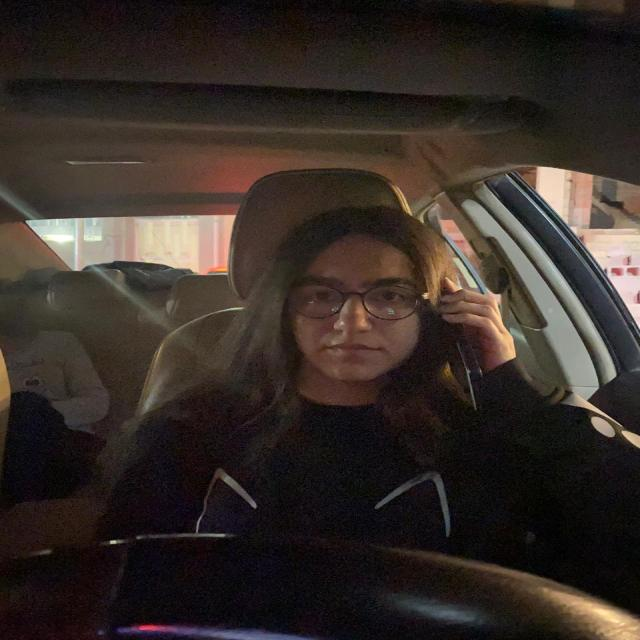phone: (438, 278, 491, 410)
